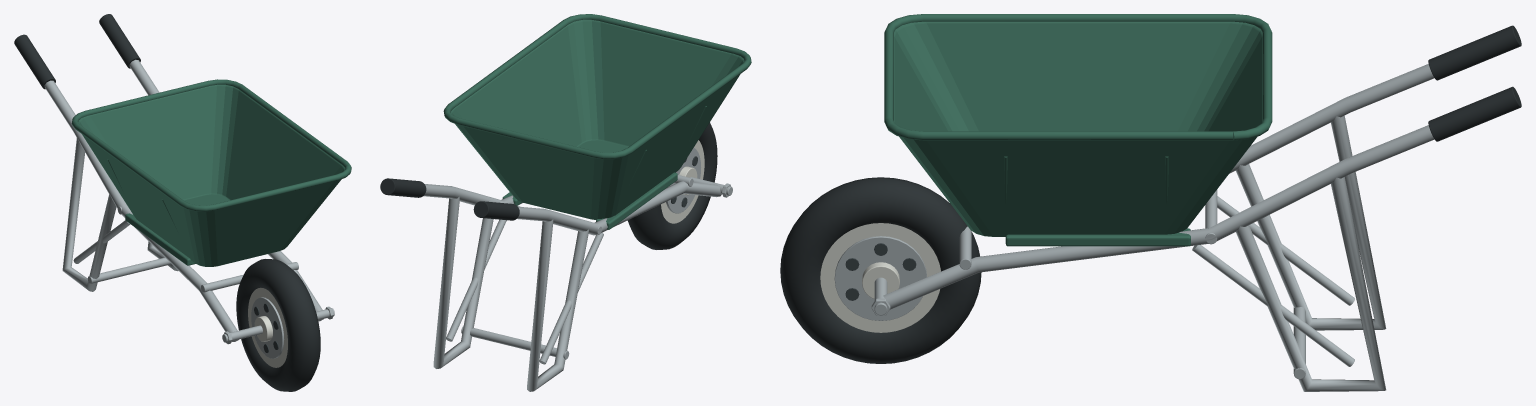
Rendered from city-construction-wheelbarrow.glb.
The picture shows the model from 3 angles, left to right: view 1: azimuth 30°, elevation 25°; view 2: azimuth 150°, elevation 25°; view 3: azimuth 270°, elevation 25°; orthographic projection. The views are drawn at different scales.
Visible parts, largest first — view 1: Pressed open load tub with inner shell, Rounded single pneumatic tire, Continuous rolled tub rim, Single continuous support and handle rail, Bent parking leg with ground return, Inset dished wheel center, Stamped wheel rim, Replaceable rubber handle grip, Replaceable rubber handle grip.001, Single continuous support and handle rail.001, Transverse support brace, Tub underside longitudinal saddle (+4 smaller); view 2: Pressed open load tub with inner shell, Continuous rolled tub rim, Bent parking leg with ground return, Bent parking leg with ground return.001, Rounded single pneumatic tire, Single continuous support and handle rail, Leg diagonal reinforcing strut, Single continuous support and handle rail.001, Leg diagonal reinforcing strut.001, Tub underside longitudinal saddle, Replaceable rubber handle grip.001, Transverse support brace (+3 smaller); view 3: Pressed open load tub with inner shell, Rounded single pneumatic tire, Continuous rolled tub rim, Single continuous support and handle rail.001, Bent parking leg with ground return.001, Bent parking leg with ground return, Stamped wheel rim, Inset dished wheel center.001, Single continuous support and handle rail, Tub underside longitudinal saddle.001, Replaceable rubber handle grip, Replaceable rubber handle grip.001 (+3 smaller).
Boxes of the visible parts, bbox=[...] form: Pressed open load tub with inner shell: bbox=[78, 84, 345, 266]; Rounded single pneumatic tire: bbox=[236, 259, 320, 391]; Continuous rolled tub rim: bbox=[71, 79, 351, 211]; Single continuous support and handle rail: bbox=[44, 80, 238, 341]; Bent parking leg with ground return: bbox=[62, 138, 116, 291]; Inset dished wheel center: bbox=[251, 297, 284, 358]; Stamped wheel rim: bbox=[248, 287, 287, 367]; Replaceable rubber handle grip: bbox=[14, 34, 55, 89]; Replaceable rubber handle grip.001: bbox=[99, 14, 140, 68]; Single continuous support and handle rail.001: bbox=[129, 59, 323, 321]; Transverse support brace: bbox=[87, 257, 171, 283]; Tub underside longitudinal saddle: bbox=[125, 213, 195, 265]; Pressed open load tub with inner shell: bbox=[451, 19, 744, 219]; Continuous rolled tub rim: bbox=[443, 14, 751, 159]; Bent parking leg with ground return: bbox=[527, 219, 588, 391]; Bent parking leg with ground return.001: bbox=[433, 196, 493, 368]; Rounded single pneumatic tire: bbox=[627, 122, 717, 249]; Single continuous support and handle rail: bbox=[517, 181, 721, 235]; Leg diagonal reinforcing strut: bbox=[539, 232, 603, 364]; Single continuous support and handle rail.001: bbox=[423, 184, 522, 205]; Leg diagonal reinforcing strut.001: bbox=[446, 219, 506, 341]; Tub underside longitudinal saddle: bbox=[596, 172, 677, 229]; Replaceable rubber handle grip.001: bbox=[380, 178, 426, 197]; Transverse support brace: bbox=[461, 326, 569, 359]; Pressed open load tub with inner shell: bbox=[894, 21, 1262, 236]; Rounded single pneumatic tire: bbox=[780, 177, 981, 363]; Continuous rolled tub rim: bbox=[884, 14, 1272, 140]; Single continuous support and handle rail.001: bbox=[883, 125, 1434, 309]; Bent parking leg with ground return.001: bbox=[1236, 177, 1386, 391]; Bent parking leg with ground return: bbox=[1236, 115, 1386, 330]; Stamped wheel rim: bbox=[820, 223, 940, 332]; Inset dished wheel center.001: bbox=[834, 236, 926, 320]; Single continuous support and handle rail: bbox=[1229, 64, 1434, 173]; Tub underside longitudinal saddle.001: bbox=[1005, 228, 1190, 246]; Replaceable rubber handle grip: bbox=[1428, 25, 1521, 80]; Replaceable rubber handle grip.001: bbox=[1428, 86, 1521, 141].
Bounding box in the file's own units: 0.7139 × 0.8349 × 1.84.
